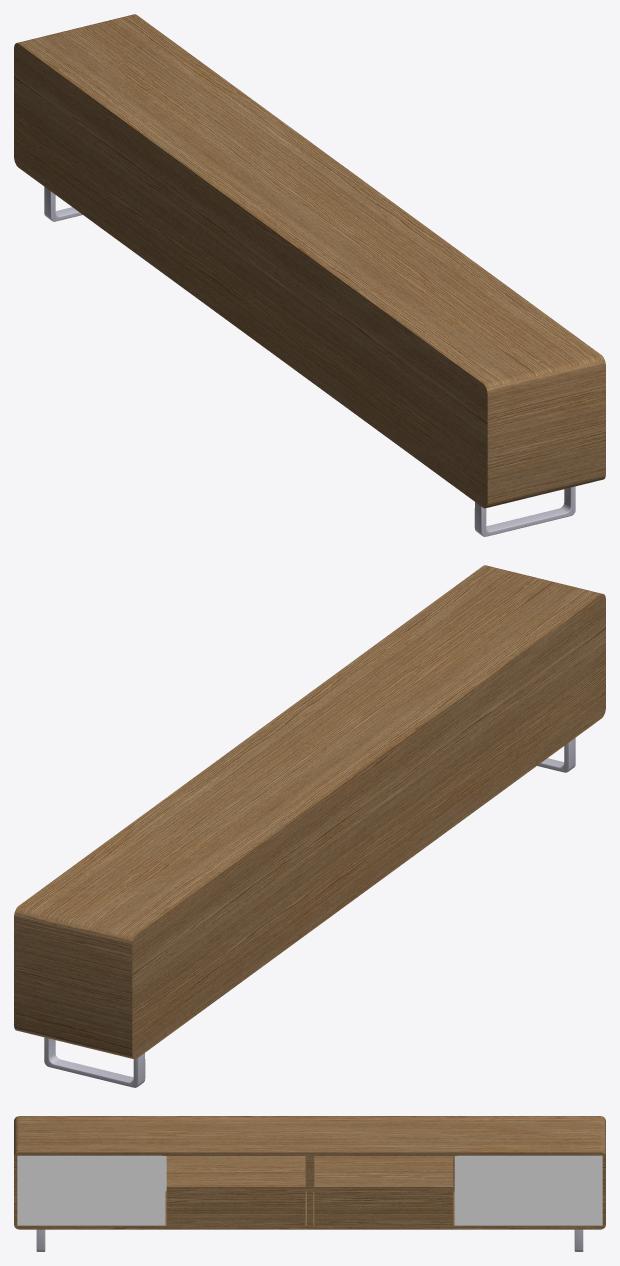
Rendered from tstand6.glb.
3 renders of one model, top to bottom at view 1: azimuth 30°, elevation 25°; view 2: azimuth 150°, elevation 25°; view 3: azimuth 270°, elevation 25°, orthographic. The views are drawn at different scales.
Visible parts, largest first — view 1: Cube_2, Cube.001_3; view 2: Cube_2, Cube.001_3; view 3: Cube_2, Cube.001_3.
Boxes of the visible parts, left/top/right/bottom form: Cube_2: left=14, top=14, right=605, bottom=508; Cube.001_3: left=44, top=187, right=575, bottom=536; Cube_2: left=14, top=565, right=605, bottom=1059; Cube.001_3: left=44, top=738, right=575, bottom=1087; Cube_2: left=14, top=1116, right=605, bottom=1229; Cube.001_3: left=36, top=1229, right=583, bottom=1251.
Bounding box in the file's own units: 2 × 2.7 × 13.86.
3 materials, 2 textured.
